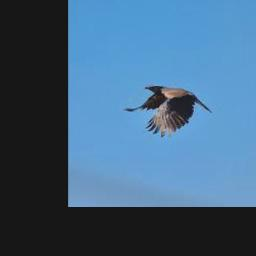Crow: (123, 85, 212, 137)
